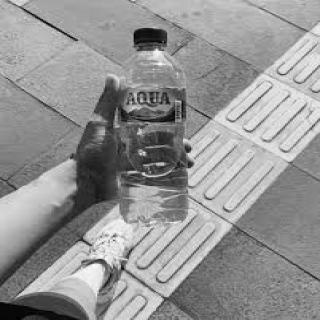plastic_bottles: (114, 27, 190, 226)
